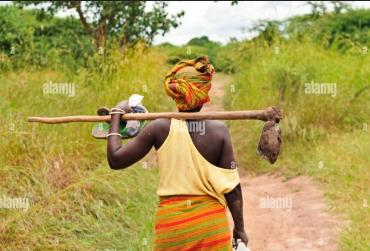HOUE: (26, 105, 290, 167)
